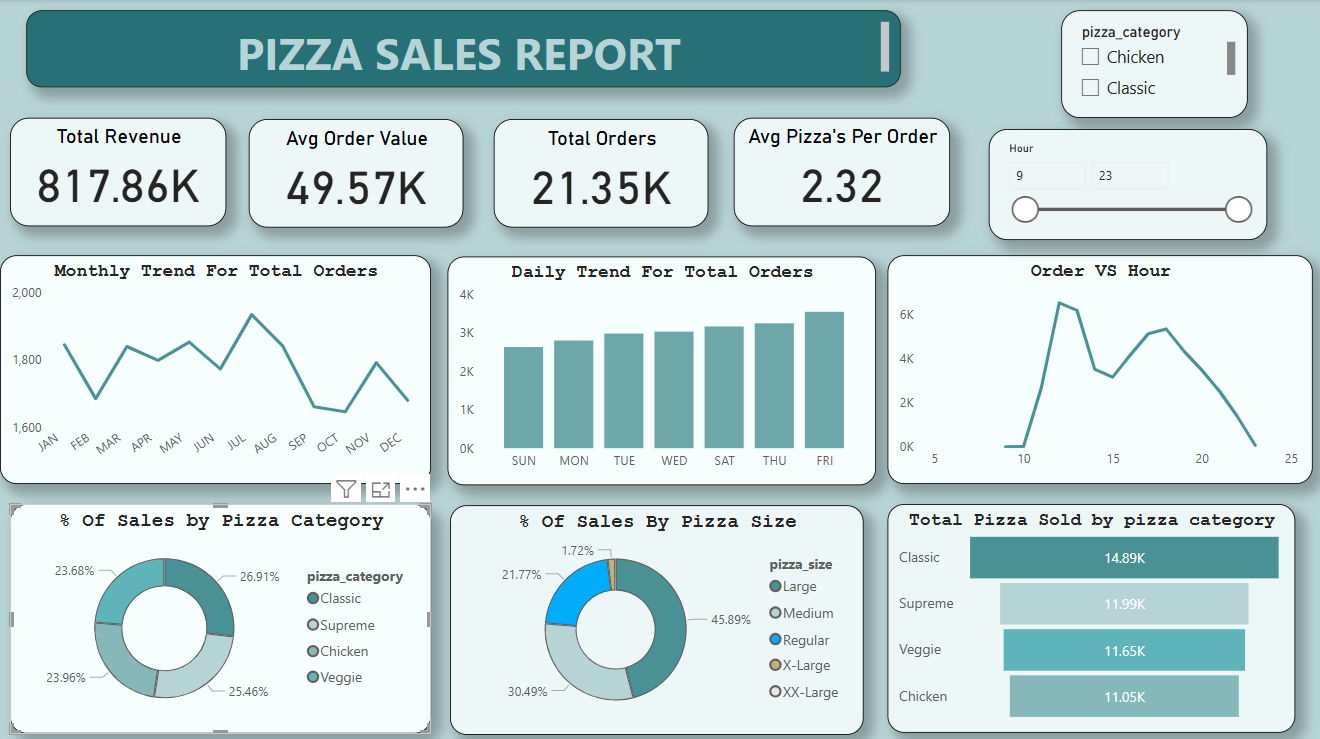

Layout of this report page (visuals, bound fields, positions):
{"tool":"powerbi","page":{"name":"Page 1","canvas":[1280,720],"ordinal":0},"visuals":[{"type":"card","title":"Total Revenue","fields":{"Values":["pizza_sales.Total_revenue"]},"box":[14.5,114.6,208.7,105],"z":0},{"type":"card","title":"Total Orders","fields":{"Values":["pizza_sales.Total_orders"]},"box":[481.4,115.8,207.5,105],"z":1000},{"type":"card","title":"Avg Order Value","fields":{"Values":["pizza_sales.Total_pizza_sold"]},"box":[244.9,115.8,207.5,105],"z":2000},{"type":"card","title":"Avg Pizza''s Per Order","fields":{"Values":["pizza_sales.avg_Pizza_perorder"]},"box":[713,114.6,208.7,105],"z":3000},{"type":"columnChart","title":"Daily Trend For Total Orders","fields":{"Y":["Count(pizza_sales.order_id)"],"Category":["pizza_sales.Column"]},"box":[436.7,248.5,413.8,220.8],"z":4000},{"type":"donutChart","title":"% Of Sales By Pizza Size","fields":{"Y":["Sum(pizza_sales.total_price)"],"Category":["pizza_sales.pizza_size"]},"box":[430.7,487.4,378.8,222],"z":5000},{"type":"donutChart","title":"% Of Sales by Pizza Category","fields":{"Category":["pizza_sales.pizza_category"],"Y":["Sum(pizza_sales.total_price)"]},"box":[14.5,487.4,380,222],"z":6000},{"type":"funnel","title":"Total Pizza Sold by pizza category","fields":{"Category":["pizza_sales.pizza_category"],"Y":["Sum(pizza_sales.quantity)"]},"box":[850.5,488.6,393.3,220.8],"z":7000},{"type":"lineChart","title":"Monthly Trend For Total Orders","fields":{"Y":["Sum(pizza_sales.total_price)"],"Category":["pizza_sales.Column 2"]},"box":[14.5,247.3,416.2,220.8],"z":8000},{"type":"slicer","fields":{"Values":["pizza_sales.pizza_category"]},"box":[1029.1,10.9,179.8,103.8],"z":9000},{"type":"textbox","box":[30.6,11,843.8,74.6],"z":10000},{"type":"lineChart","title":"Order VS Hour","fields":{"Category":["pizza_sales.Hour"],"Y":["CountNonNull(pizza_sales.order_id)"]},"box":[861.4,247.3,410.2,220.8],"z":10001},{"type":"slicer","fields":{"Values":["pizza_sales.Hour"]},"box":[959.1,125.5,269,107.4],"z":10002}]}

Visuals, with their boxes in screenshot pixels (x1, y1, x2, y2), scaled from the page's 1280x720 canvas onto the 1320x739 screenshot:
"Total Revenue" card: bbox=(15, 118, 230, 225)
"Total Orders" card: bbox=(496, 119, 710, 227)
"Avg Order Value" card: bbox=(253, 119, 467, 227)
"Avg Pizza''s Per Order" card: bbox=(735, 118, 951, 225)
"Daily Trend For Total Orders" columnChart: bbox=(450, 255, 877, 482)
"% Of Sales By Pizza Size" donutChart: bbox=(444, 500, 835, 728)
"% Of Sales by Pizza Category" donutChart: bbox=(15, 500, 407, 728)
"Total Pizza Sold by pizza category" funnel: bbox=(877, 501, 1283, 728)
"Monthly Trend For Total Orders" lineChart: bbox=(15, 254, 444, 480)
slicer - pizza_sales.pizza_category: bbox=(1061, 11, 1247, 118)
textbox: bbox=(32, 11, 902, 88)
"Order VS Hour" lineChart: bbox=(888, 254, 1311, 480)
slicer - pizza_sales.Hour: bbox=(989, 129, 1266, 239)
